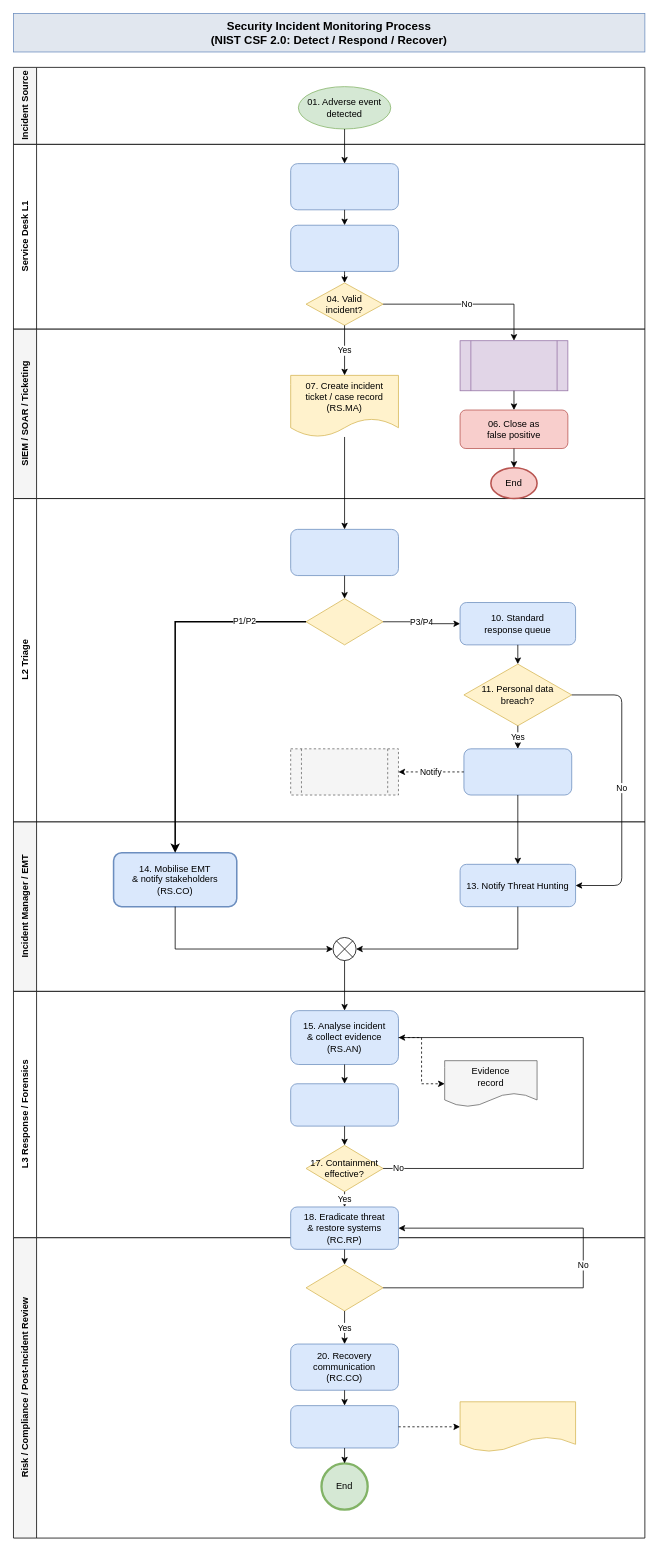
Some shapes in this 658 by 1552 pixel diagram are drawn without their labels. The centre of each missing label's shape, as x and y in pixels:
02. Monitor & receive SIEM/EDR alert (DE.CM): point 344,186
03. Initial triage & correlation (DE.AE): point 344,247
05. P18. False positive correction (subprocess): point 513,365
08. Classify severity & assign SLA: point 344,552
09. P1/P2 critical?: point 344,621
12. Notify personal data breach process (P45): point 517,771
16. Contain threat (RS.MI): point 344,1104
19. Recovery validated?: point 344,1287
21. Root cause analysis & lessons learned: point 344,1426
22. Update risk register & playbooks: point 517,1426
P45. Personal data breach handling (external process): point 344,771
